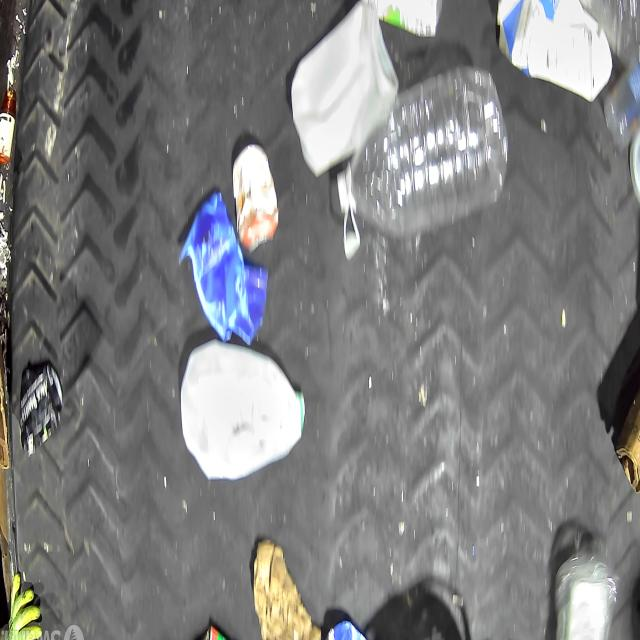can: (232, 142, 278, 252), (18, 364, 64, 454)
milk_jug: (288, 0, 397, 178), (179, 341, 305, 482)
non_white_jug: (495, 0, 613, 101)
plastic_bottle: (333, 64, 511, 240), (555, 554, 619, 640)
